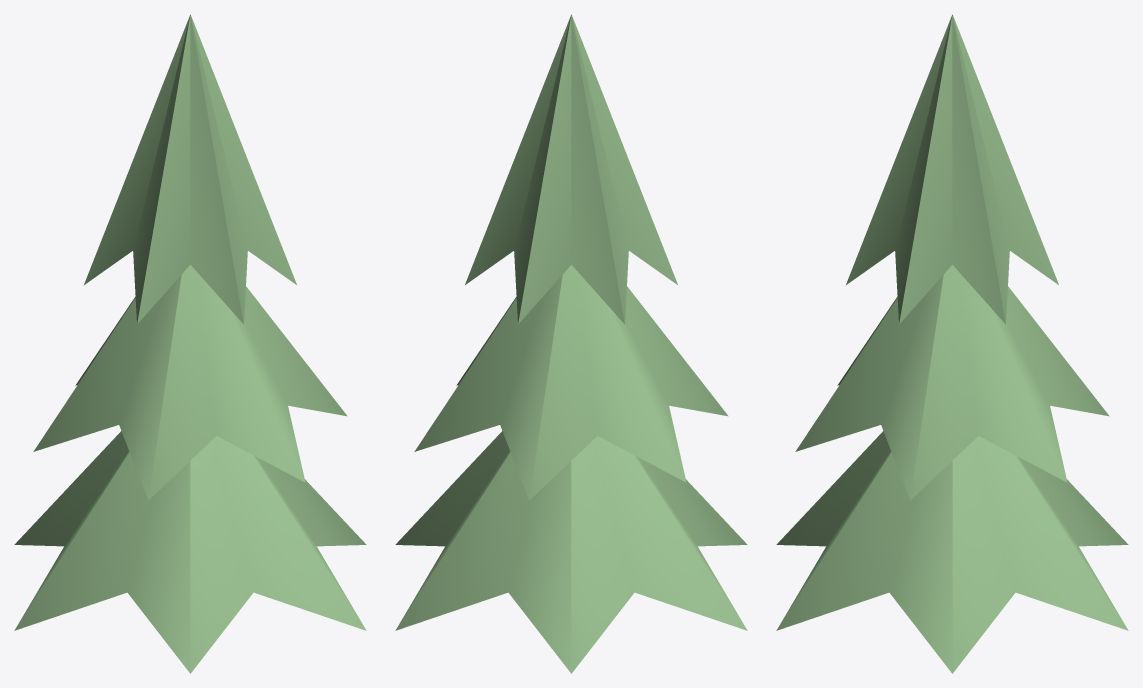
File: tree-pine-b-crown-far.glb
3 renders of one model, left to right at view 1: azimuth 30°, elevation 25°; view 2: azimuth 150°, elevation 25°; view 3: azimuth 270°, elevation 25°, orthographic.
Visible parts, largest first — view 1: tree-pine-b-crown-far; view 2: tree-pine-b-crown-far; view 3: tree-pine-b-crown-far.
Boxes of the visible parts, x1,y1,x2,y2 form: tree-pine-b-crown-far: [14, 14, 366, 673]; tree-pine-b-crown-far: [395, 14, 747, 673]; tree-pine-b-crown-far: [776, 14, 1128, 673].
Bounding box in the file's own units: 0.5143 × 0.8 × 0.4454.
